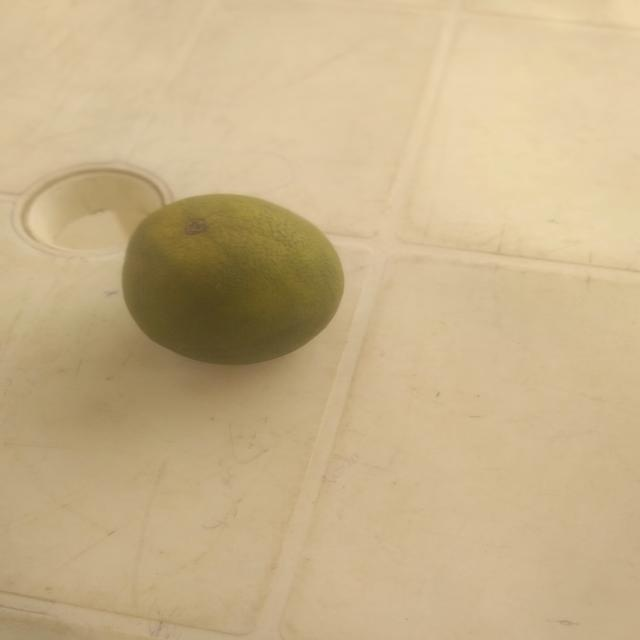agrume: (118, 192, 350, 371)
